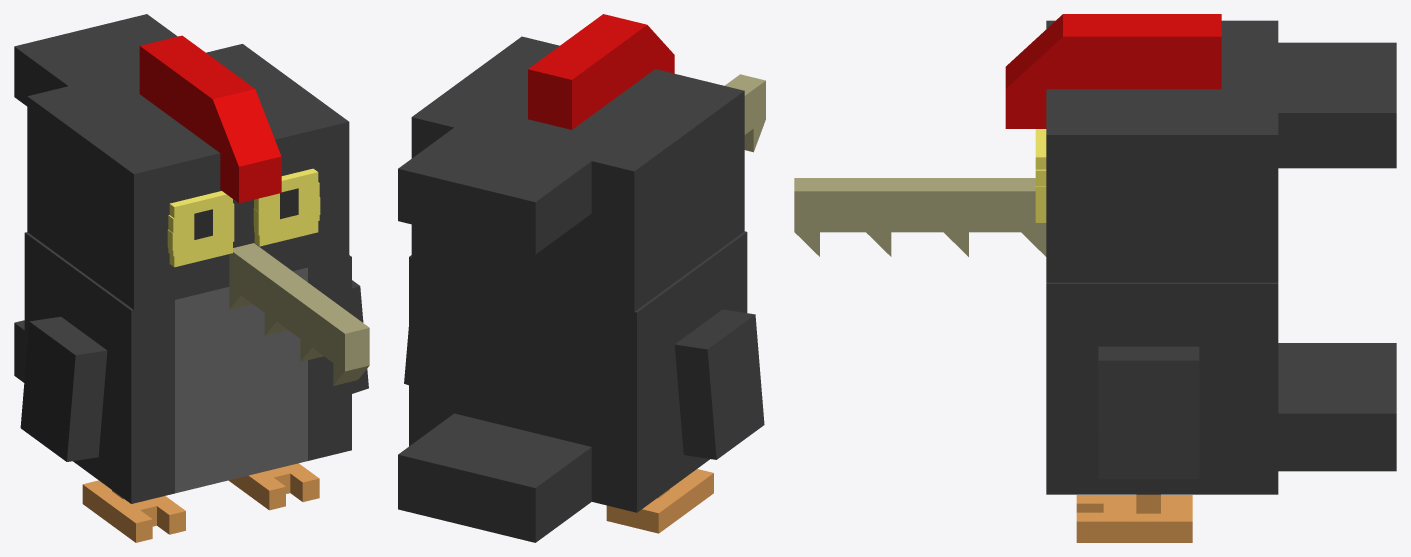
3 views of the same model, side by side, from view 1: azimuth 30°, elevation 25°; view 2: azimuth 150°, elevation 25°; view 3: azimuth 270°, elevation 25° (orthographic). The views are drawn at different scales.
Visible parts, largest first — view 1: Ch_19_Head, Ch_19, Ch_19_Wing_L, Ch_19_Eye_01, Ch_19_Leg_L, Ch_19_Leg_R, Ch_19_Eye_03_L, Ch_19_Eye_03_R, Ch_19_Wing_R; view 2: Ch_19_Head, Ch_19, Ch_19_Wing_L, Ch_19_Leg_L; view 3: Ch_19_Head, Ch_19, Ch_19_Wing_R, Ch_19_Leg_R.
Boxes of the visible parts, left/top/right/bottom form: Ch_19_Head: left=14, top=14, right=369, bottom=385; Ch_19: left=14, top=232, right=351, bottom=503; Ch_19_Wing_L: left=20, top=316, right=107, bottom=461; Ch_19_Eye_01: left=168, top=182, right=319, bottom=256; Ch_19_Leg_L: left=82, top=480, right=185, bottom=542; Ch_19_Leg_R: left=228, top=463, right=319, bottom=510; Ch_19_Eye_03_L: left=169, top=191, right=232, bottom=267; Ch_19_Eye_03_R: left=254, top=168, right=318, bottom=246; Ch_19_Wing_R: left=352, top=280, right=368, bottom=393; Ch_19_Head: left=398, top=14, right=765, bottom=311; Ch_19: left=398, top=231, right=747, bottom=542; Ch_19_Wing_L: left=674, top=309, right=764, bottom=459; Ch_19_Leg_L: left=606, top=469, right=713, bottom=533; Ch_19_Head: left=794, top=14, right=1396, bottom=282; Ch_19: left=1046, top=282, right=1396, bottom=494; Ch_19_Wing_R: left=1098, top=346, right=1199, bottom=478; Ch_19_Leg_R: left=1076, top=494, right=1192, bottom=542.
Bounding box in the file's own units: 8.62 × 11.75 × 13.67.
